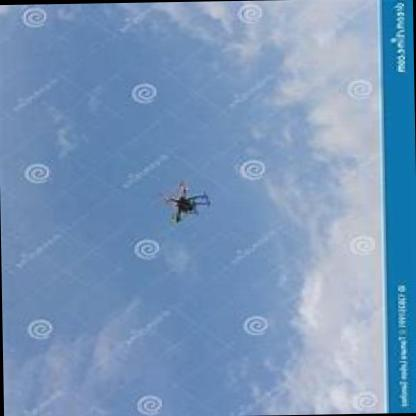drone: (147, 177, 216, 229)
